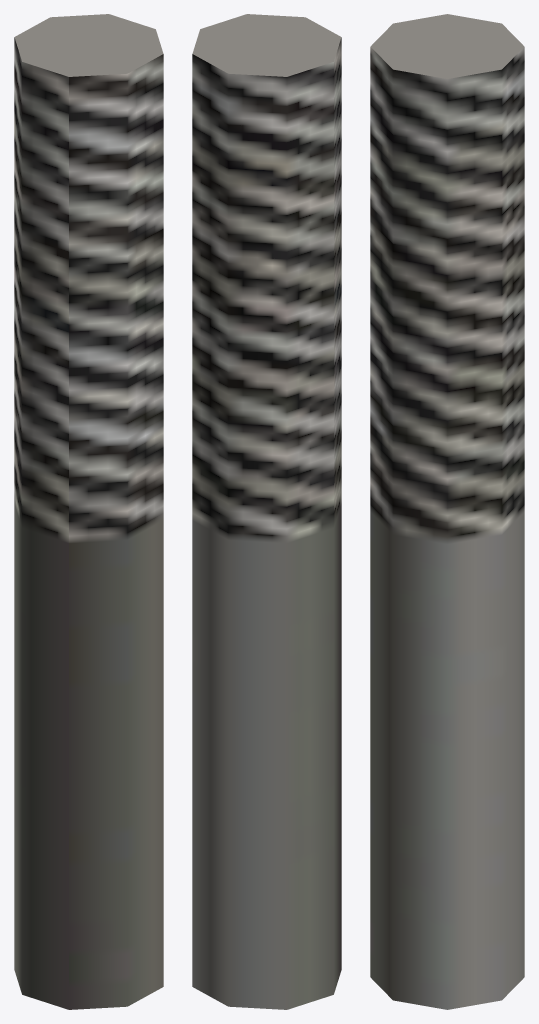
3 views of the same model, side by side, from view 1: azimuth 30°, elevation 25°; view 2: azimuth 150°, elevation 25°; view 3: azimuth 270°, elevation 25° (orthographic).
Visible parts, largest first — view 1: Joint_0_Object_0; view 2: Joint_0_Object_0; view 3: Joint_0_Object_0.
Part boxes in pixels (x1,y1,x2,y2): Joint_0_Object_0: (14,14,163,1009); Joint_0_Object_0: (192,14,341,1009); Joint_0_Object_0: (370,14,524,1009).
Bounding box in the file's own units: 60 × 400 × 60.
Materials: 1 (1 with a texture image).
